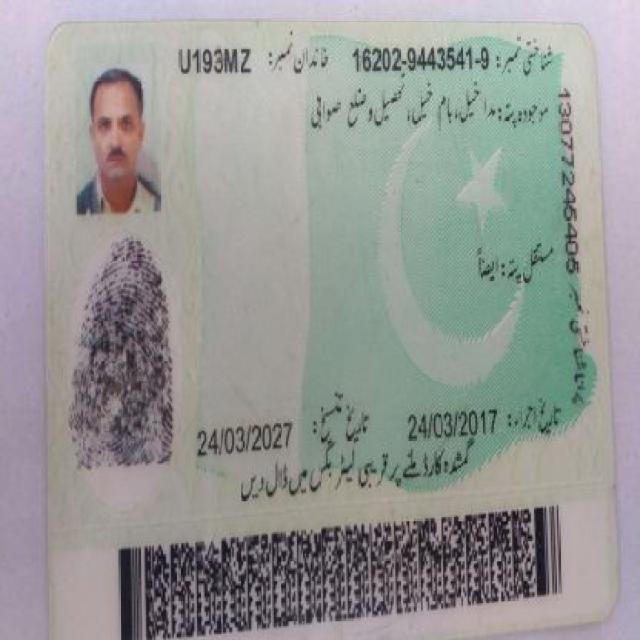Back: (25, 16, 623, 630)
